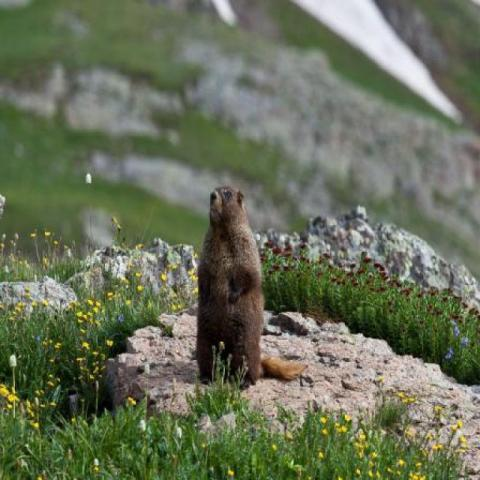small_animal: (192, 184, 294, 388)
